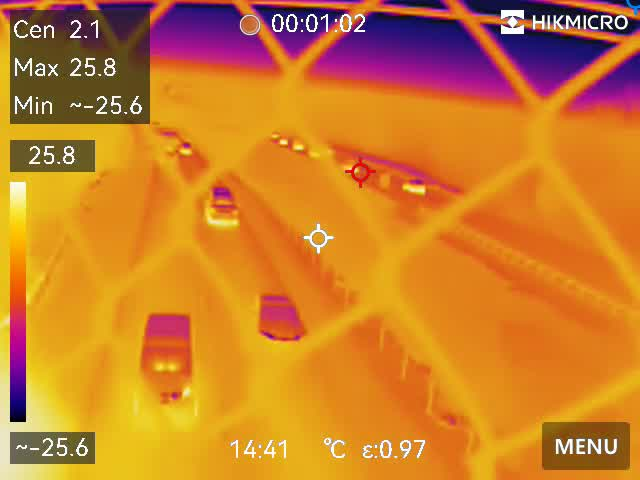vehicle: (135, 311, 203, 422), (259, 290, 310, 350), (207, 182, 241, 231), (400, 176, 428, 196), (174, 138, 194, 160), (291, 140, 305, 153)
